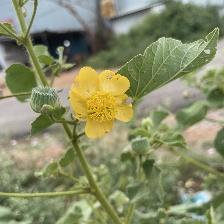indian mallow: (69, 67, 141, 143)
